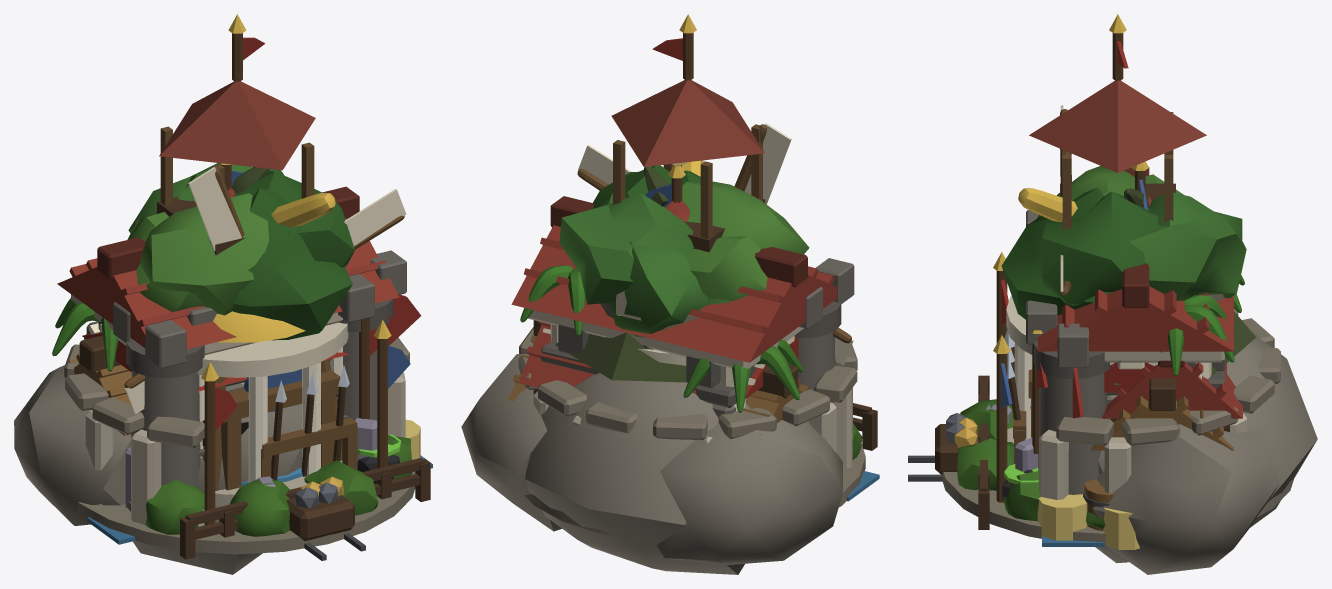
File: mapobj.glb
3 views of the same model, side by side, from view 1: azimuth 30°, elevation 25°; view 2: azimuth 150°, elevation 25°; view 3: azimuth 270°, elevation 25° (orthographic). The views are drawn at different scales.
Visible parts, largest first — view 1: obj_tree, obj_mine, obj_arena, obj_prison, obj_lookout, obj_temple, obj_learning, obj_shrine_know, obj_stables, obj_windmill, obj_shrine_att, obj_oasis (+5 smaller); view 2: obj_mine, obj_tree, obj_learning, obj_lookout, obj_arena, obj_prison, obj_witch_hut, obj_oasis, obj_windmill, obj_stables, obj_watermill, obj_shrine_def (+1 smaller); view 3: obj_mine, obj_tree, obj_arena, obj_lookout, obj_learning, obj_prison, obj_stables, obj_shrine_know, obj_watermill, obj_temple, obj_oasis, obj_trading_post (+5 smaller).
Boxes of the visible parts, <box> form: obj_tree: <box>127,163,354,340</box>; obj_mine: <box>14,315,399,574</box>; obj_arena: <box>64,319,415,554</box>; obj_prison: <box>86,250,406,511</box>; obj_lookout: <box>157,14,342,490</box>; obj_temple: <box>197,311,348,521</box>; obj_learning: <box>57,186,399,354</box>; obj_shrine_know: <box>145,434,412,536</box>; obj_stables: <box>60,335,430,559</box>; obj_windmill: <box>124,166,406,413</box>; obj_shrine_att: <box>261,294,421,480</box>; obj_oasis: <box>52,298,118,371</box>; obj_mine: <box>461,353,842,574</box>; obj_tree: <box>559,165,809,338</box>; obj_learning: <box>511,196,837,411</box>; obj_lookout: <box>611,14,765,252</box>; obj_arena: <box>518,327,865,536</box>; obj_prison: <box>540,258,854,417</box>; obj_witch_hut: <box>555,166,687,382</box>; obj_oasis: <box>520,261,802,412</box>; obj_windmill: <box>577,123,853,365</box>; obj_stables: <box>508,320,877,450</box>; obj_watermill: <box>518,321,879,501</box>; obj_shrine_def: <box>600,165,698,329</box>; obj_mine: <box>908,329,1317,574</box>; obj_tree: <box>1001,166,1246,319</box>; obj_arena: <box>940,252,1293,545</box>; obj_lookout: <box>1029,14,1206,229</box>; obj_learning: <box>1037,167,1233,378</box>; obj_prison: <box>1026,210,1224,494</box>; obj_stables: <box>978,375,1233,549</box>; obj_shrine_know: <box>957,399,1104,528</box>; obj_watermill: <box>1042,351,1242,546</box>; obj_temple: <box>1006,296,1117,440</box>; obj_oasis: <box>1118,275,1244,376</box>; obj_trading_post: <box>1083,362,1201,530</box>.
Size of the model in its own units: 0.9194 by 1.35 by 0.9178.
